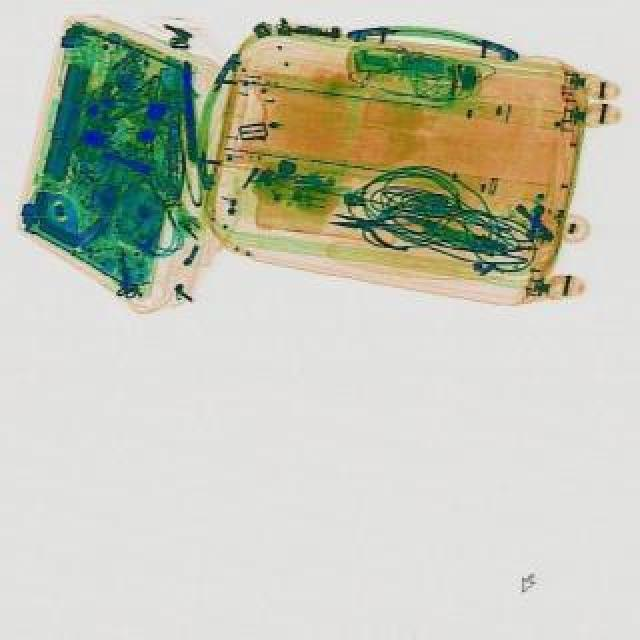wrench: (322, 202, 414, 254)
